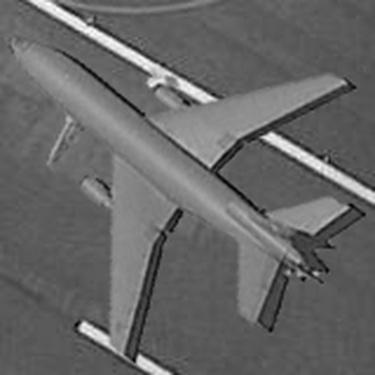airplane: (11, 17, 355, 359)
